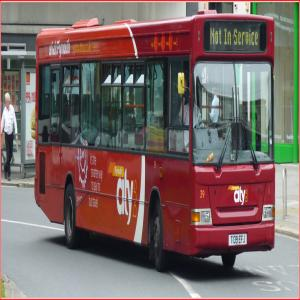Vehicle-registration-plate: (230, 236, 247, 247)
